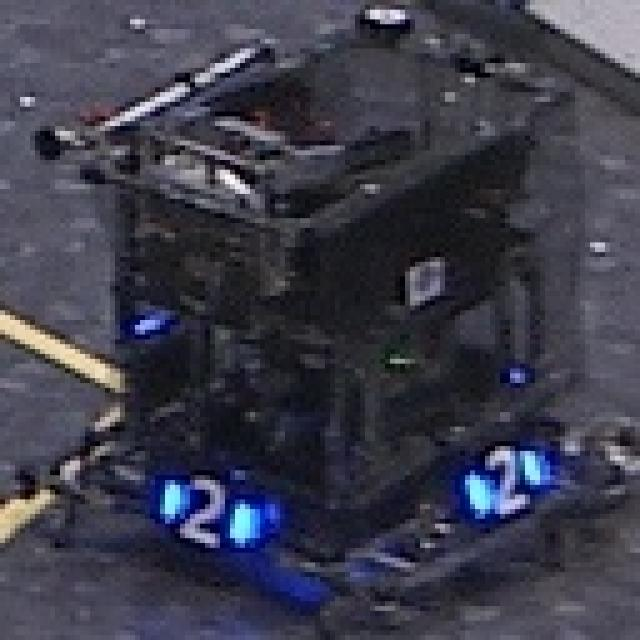B2: (165, 475, 255, 553), (460, 436, 540, 514)
